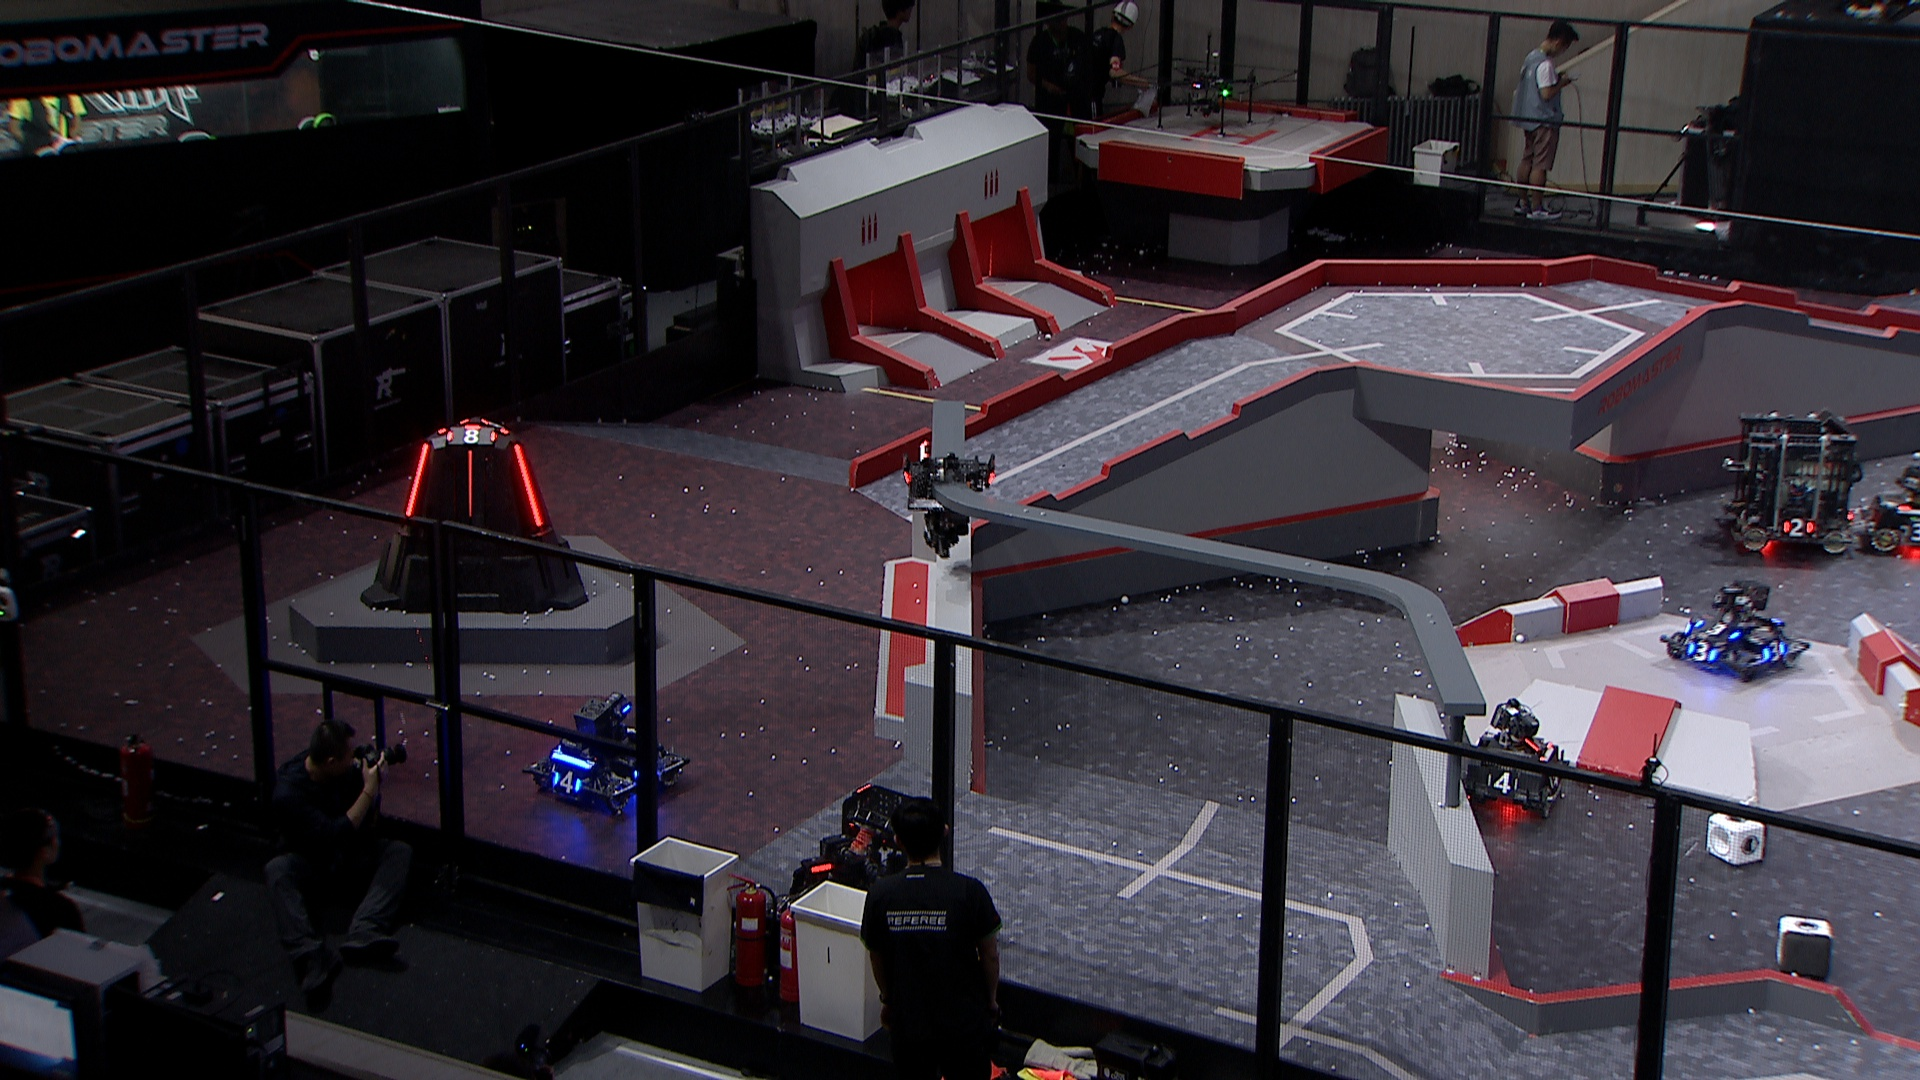armor: (512, 442, 546, 527), (404, 442, 433, 520), (446, 423, 498, 447), (1693, 618, 1742, 642), (551, 767, 583, 796), (1487, 773, 1520, 796), (1687, 641, 1720, 665), (465, 451, 476, 520), (1760, 640, 1788, 665), (1783, 518, 1815, 537), (899, 455, 916, 488), (1903, 520, 1920, 543)
base: (357, 417, 593, 616)
car: (767, 781, 960, 953), (1712, 409, 1866, 555), (520, 688, 690, 815), (1662, 582, 1812, 679), (1458, 698, 1571, 822), (1858, 460, 1920, 556)
watcher: (898, 439, 1000, 560)
